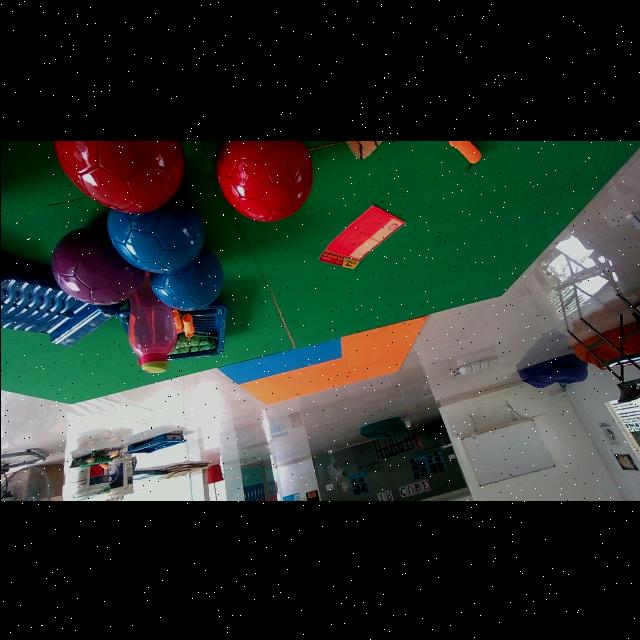B: (106, 194, 203, 272), (150, 247, 223, 310)
P: (50, 225, 144, 305)
R: (52, 140, 185, 212), (215, 140, 311, 221)
